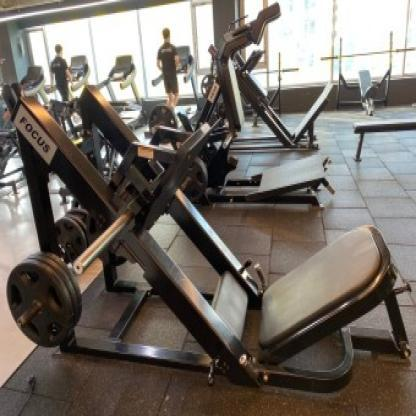leg press: (2, 35, 416, 415)
